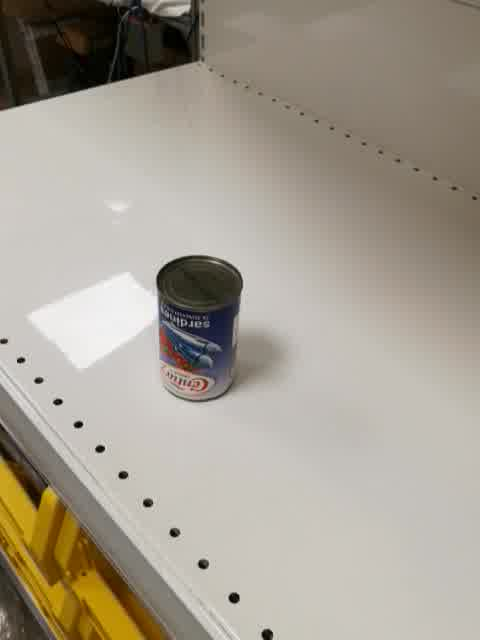sardine: (154, 253, 244, 404)
